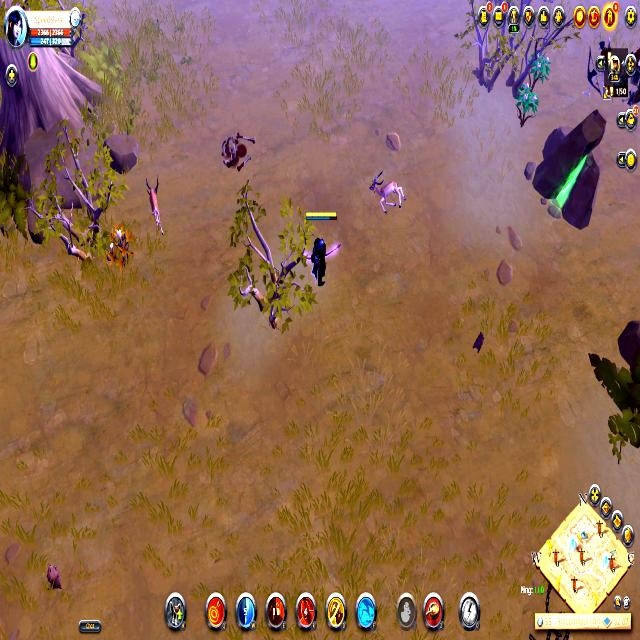hide: (100, 221, 134, 267), (514, 79, 538, 127), (530, 47, 551, 86)
mob: (366, 166, 410, 216)
ore: (139, 170, 170, 238), (584, 36, 613, 100)
red: (300, 206, 341, 294)
